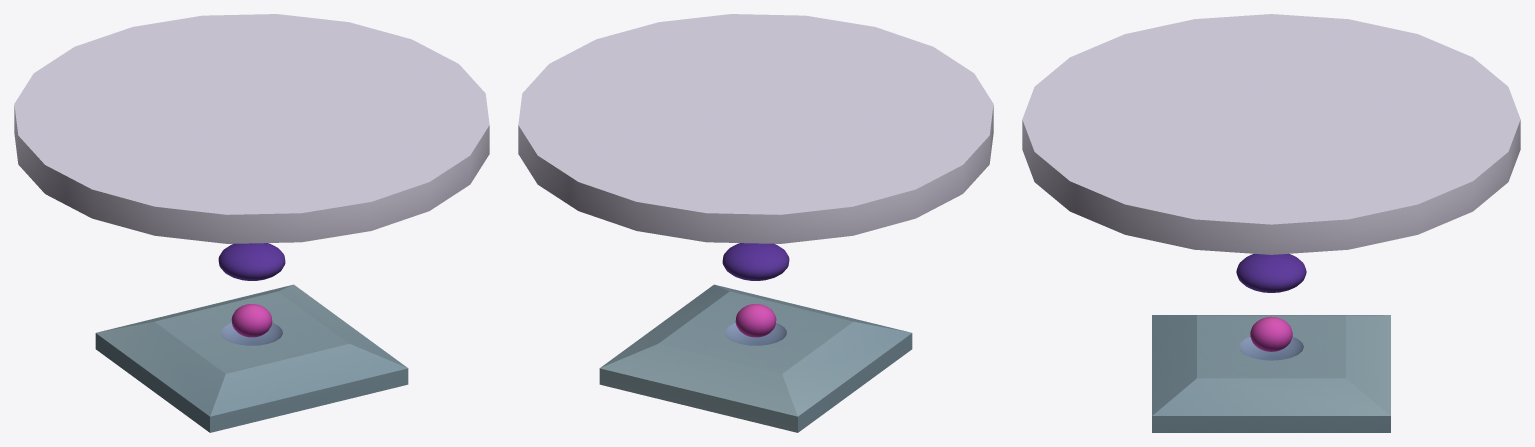
File: Magentic Table.fbx
3 renders of one model, left to right at view 1: azimuth 30°, elevation 25°; view 2: azimuth 150°, elevation 25°; view 3: azimuth 270°, elevation 25°, orthographic. The views are drawn at different scales.
Parts seen in each view (by area): view 1: Magnetic_Table:Magnetic_TablepCylinder1, Magnetic_Table:Magnetic_TablepCube1, Magnetic_Table:pSphere2Magnetic_Table, Magnetic_Table:Magnetic_TablepSphere4; view 2: Magnetic_Table:Magnetic_TablepCylinder1, Magnetic_Table:Magnetic_TablepCube1, Magnetic_Table:pSphere2Magnetic_Table, Magnetic_Table:Magnetic_TablepSphere4; view 3: Magnetic_Table:Magnetic_TablepCylinder1, Magnetic_Table:Magnetic_TablepCube1, Magnetic_Table:pSphere2Magnetic_Table, Magnetic_Table:Magnetic_TablepSphere4.
Part boxes in pixels (x1,y1,x2,y2): Magnetic_Table:Magnetic_TablepCylinder1: (14,14,489,243); Magnetic_Table:Magnetic_TablepCube1: (95,284,408,432); Magnetic_Table:pSphere2Magnetic_Table: (218,243,285,280); Magnetic_Table:Magnetic_TablepSphere4: (231,304,272,337); Magnetic_Table:Magnetic_TablepCylinder1: (518,14,993,243); Magnetic_Table:Magnetic_TablepCube1: (599,284,912,432); Magnetic_Table:pSphere2Magnetic_Table: (722,243,789,280); Magnetic_Table:Magnetic_TablepSphere4: (735,304,776,337); Magnetic_Table:Magnetic_TablepCylinder1: (1022,14,1520,254); Magnetic_Table:Magnetic_TablepCube1: (1152,315,1390,432); Magnetic_Table:pSphere2Magnetic_Table: (1236,253,1306,292); Magnetic_Table:Magnetic_TablepSphere4: (1250,316,1292,351).
Bounding box in the file's own units: 129 × 75.44 × 129.
